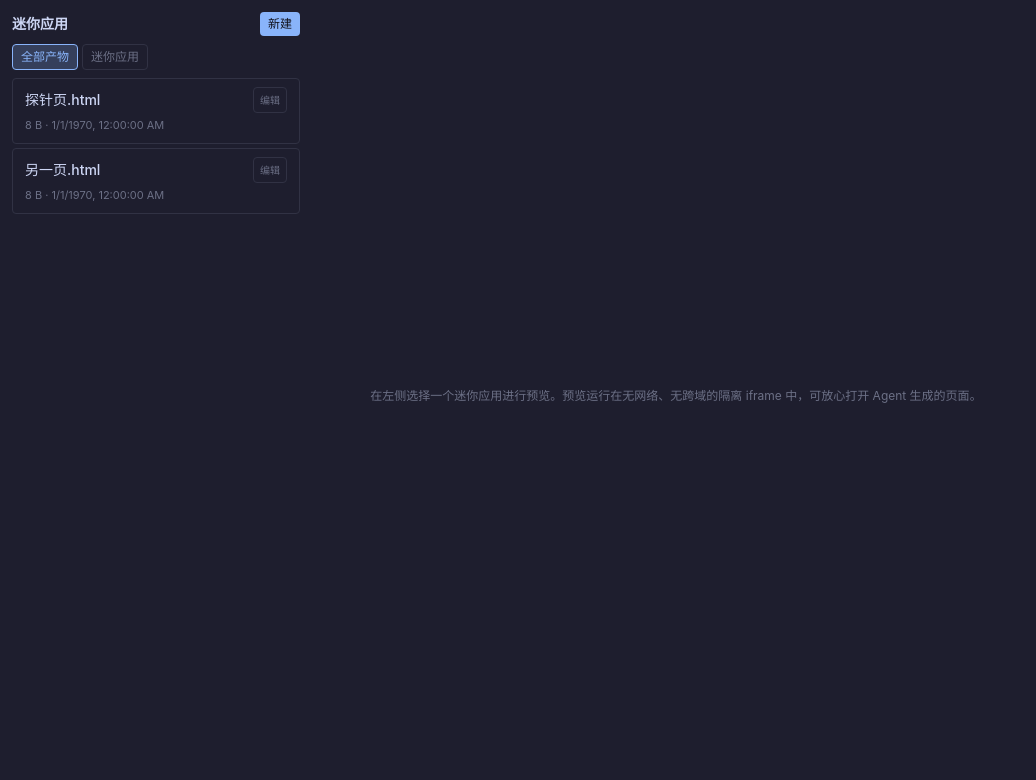
§326②「设为应用」那发：三种到货要分开 › 反向对照：真的改成了 ⇒ 那句成功话术必须还在（判据不许把好的一发也挡掉）
Expected: the button "探针页.html" is shown, left=25, top=90, right=245, bottom=110
Click the 1st button "编辑".
click(270, 100)  # box left=253, top=87, right=287, bottom=113
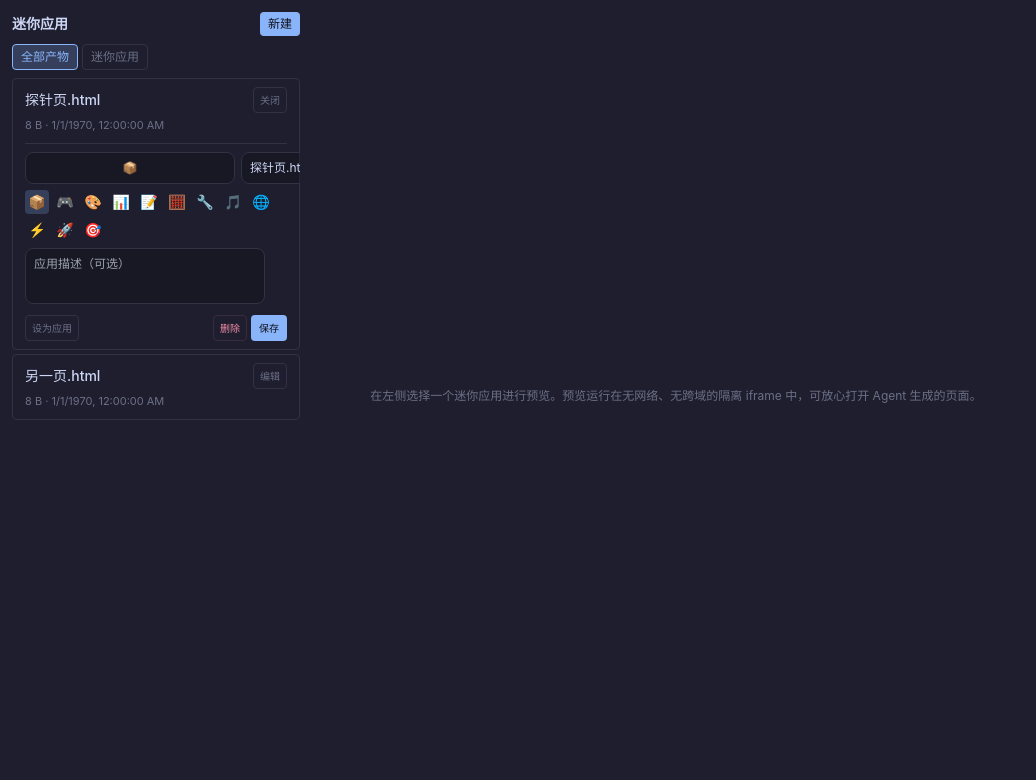
Expected: the text "设为应用" is shown
Click the button "设为应用".
click(52, 328)  # box left=25, top=315, right=79, bottom=341
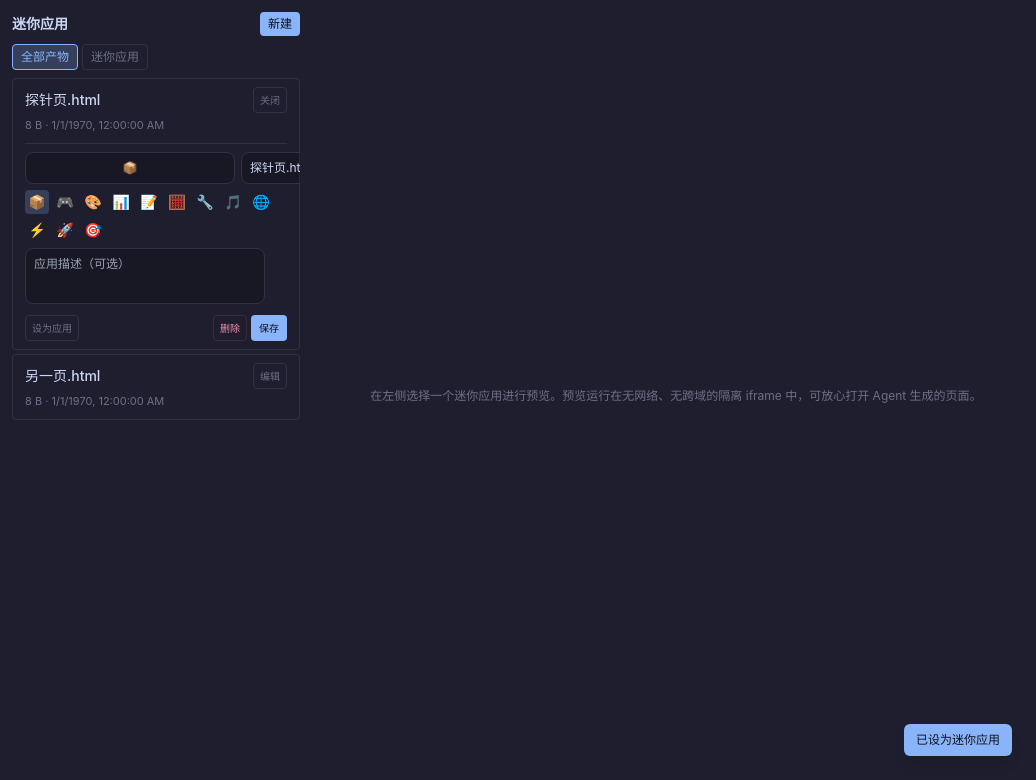
Expected: the text "已设为迷你应用" is shown, left=904, top=724, right=1012, bottom=756
